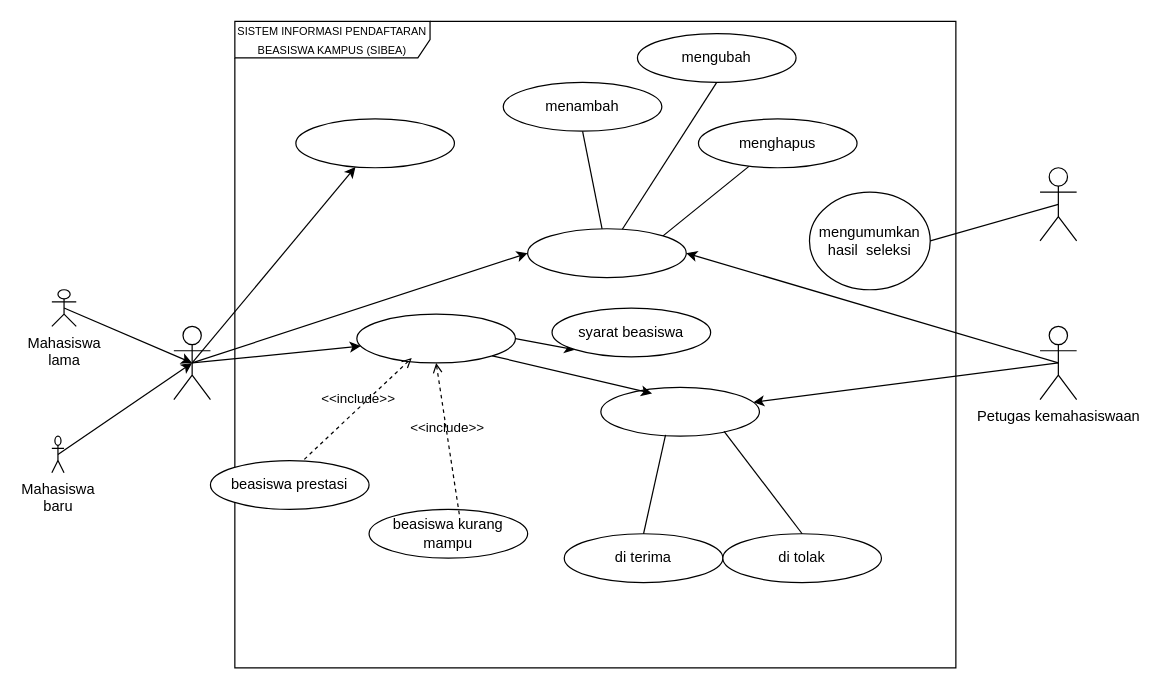
This 1160x689 diagram has some shape labels left out. Each missing label, with the box of its shape:
ajukan beasiswa: (356, 313, 515, 363)
batas akhir pendaftaran: (295, 118, 454, 168)
memeriksa berkas pemohon: (526, 228, 686, 278)
pemohon: (173, 325, 210, 400)
status di ajukan: (600, 386, 759, 436)
tim seleksi: (1039, 167, 1077, 241)
